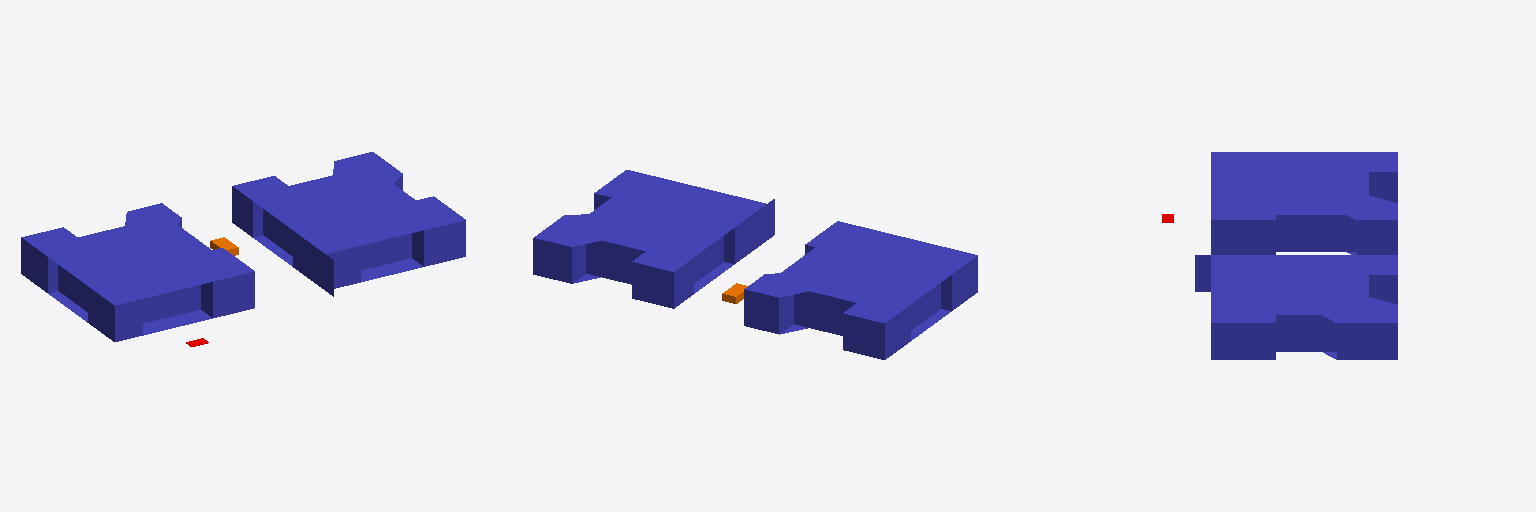
File: building1.obj
3 renders of one model, left to right at view 1: azimuth 30°, elevation 25°; view 2: azimuth 150°, elevation 25°; view 3: azimuth 270°, elevation 25°, orthographic.
Parts seen in each view (by area): view 1: building2, building1; view 2: building2, building1; view 3: building2, building1.
Boxes of the visible parts, box(x1,y1,x2,y2) form: building2: box(232, 152, 465, 296); building1: box(21, 203, 254, 341); building2: box(533, 170, 774, 308); building1: box(744, 221, 977, 359); building2: box(1195, 255, 1397, 359); building1: box(1211, 152, 1397, 254).
Size of the model in its own units: 100 by 10 by 58.